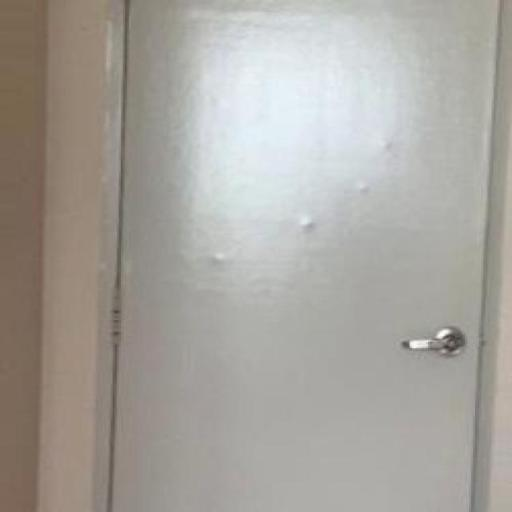door: (96, 0, 509, 510)
